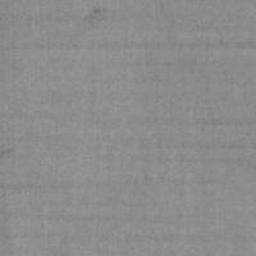Water spot: (79, 5, 108, 32)
